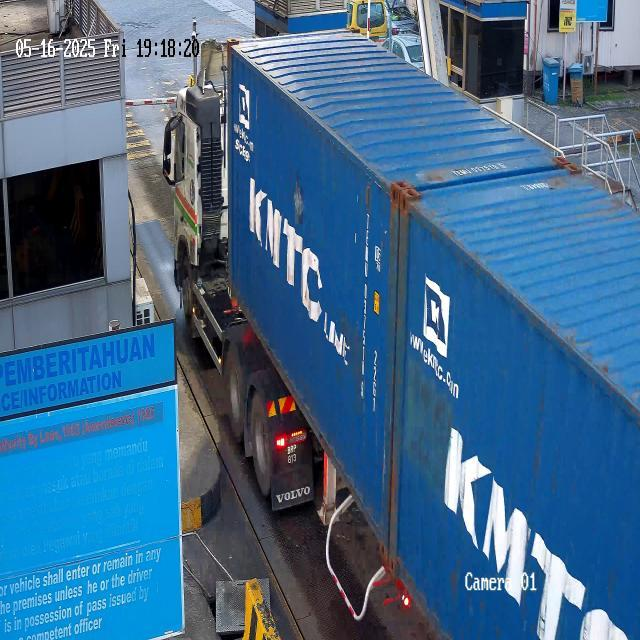ISO: (370, 343, 382, 423)
container_number: (351, 212, 373, 408)
